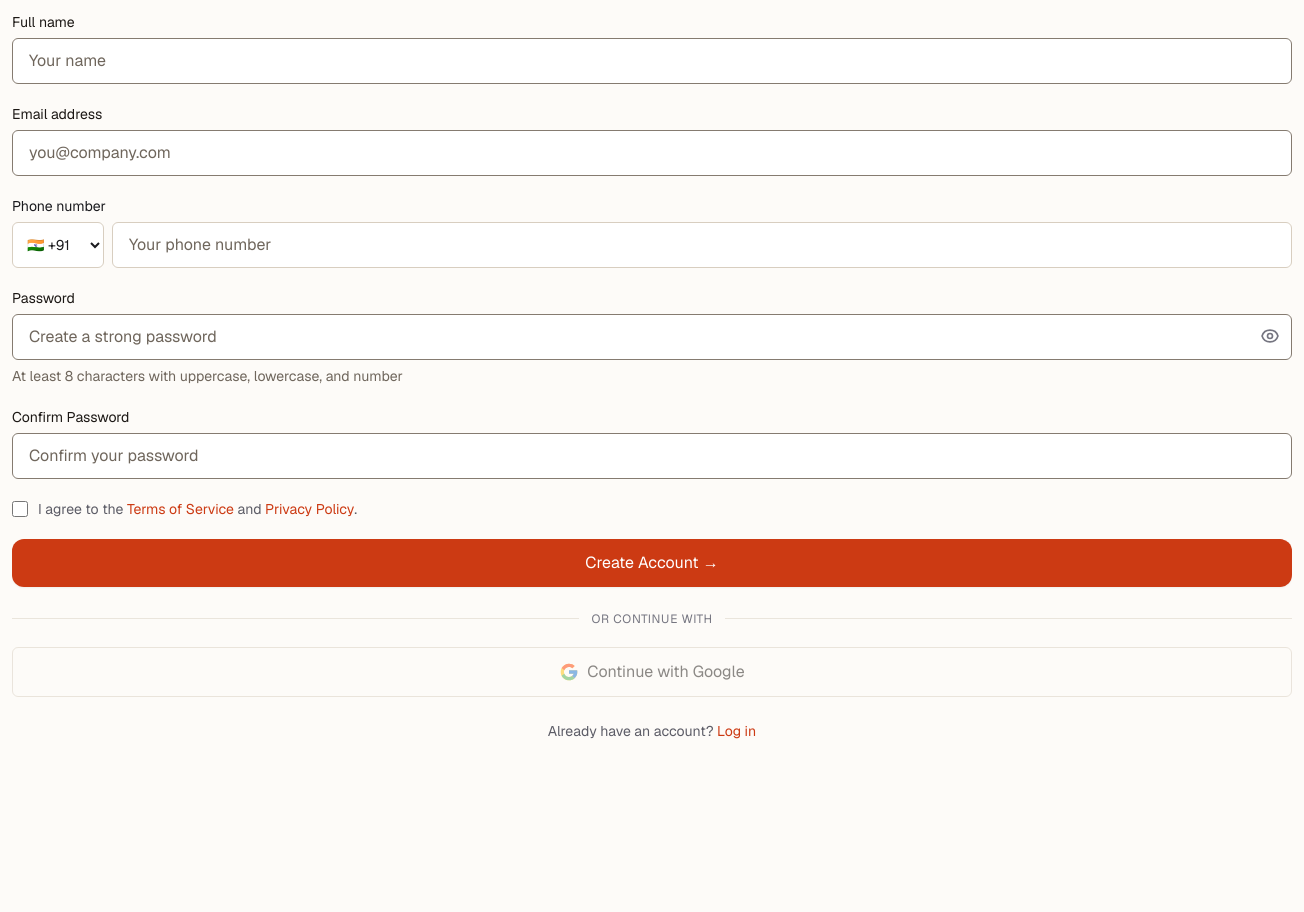
SignupForm › the Google button stays disabled until the Terms/Privacy checkbox is checked
Expected: the button "Continue with Google" is disabled, [12,647,1292,697]
What coordinates should you click on to do the following:
click the checkbox
I would click on:
 (20, 509)
Its box is [12,501,28,517].
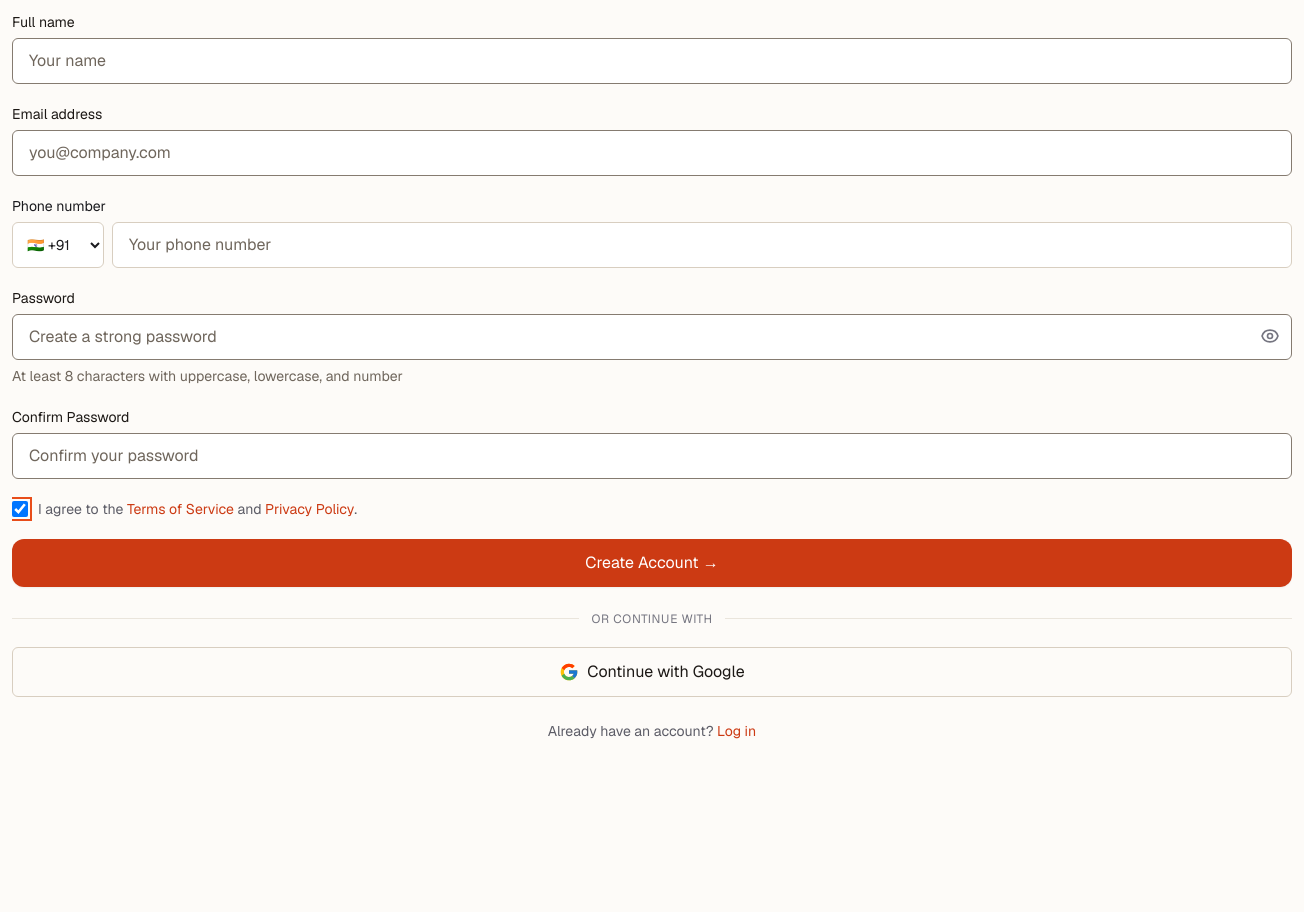
Expected: the button "Continue with Google" is enabled, [12,647,1292,697]
